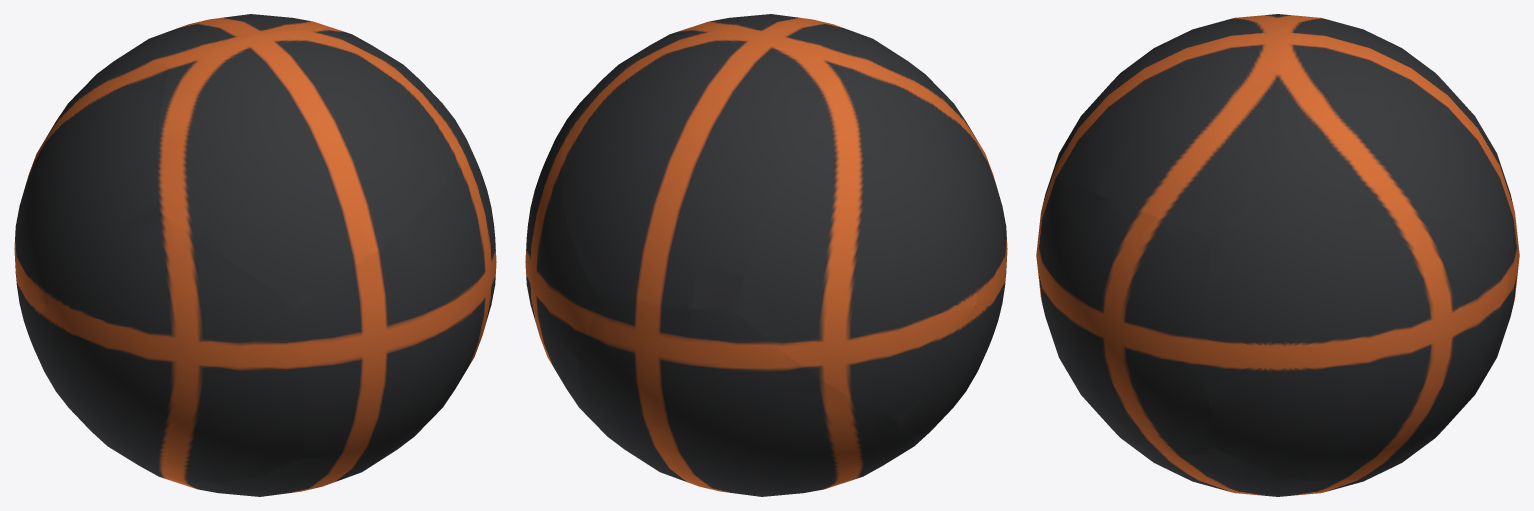
Rendered from vfx-bomb-shell.glb.
3 renders of one model, left to right at view 1: azimuth 30°, elevation 25°; view 2: azimuth 150°, elevation 25°; view 3: azimuth 270°, elevation 25°, orthographic.
Parts seen in each view (by area): view 1: piece_01, piece_06, piece_04, piece_03, piece_00, piece_07; view 2: piece_03, piece_00, piece_05, piece_02, piece_01, piece_06; view 3: piece_02, piece_00, piece_04, piece_01, piece_07, piece_05.
Boxes of the visible parts, left/top/right/bottom form: piece_01: left=157, top=29, right=464, bottom=306; piece_06: left=32, top=212, right=304, bottom=482; piece_04: left=297, top=135, right=496, bottom=460; piece_03: left=14, top=60, right=171, bottom=352; piece_00: left=90, top=14, right=409, bottom=80; piece_07: left=125, top=438, right=411, bottom=496; piece_03: left=731, top=78, right=988, bottom=420; piece_00: left=561, top=32, right=829, bottom=308; piece_05: left=577, top=302, right=897, bottom=496; piece_02: left=525, top=91, right=601, bottom=417; piece_01: left=655, top=14, right=971, bottom=133; piece_06: left=883, top=131, right=1007, bottom=463; piece_02: left=1205, top=194, right=1509, bottom=480; piece_00: left=1261, top=17, right=1515, bottom=253; piece_04: left=1036, top=175, right=1216, bottom=454; piece_01: left=1052, top=14, right=1296, bottom=237; piece_07: left=1107, top=424, right=1374, bottom=496; piece_05: left=1373, top=220, right=1519, bottom=475.
Bounding box in the file's own units: 0.45 × 0.45 × 0.45.
Materials: 1 (1 with a texture image).
